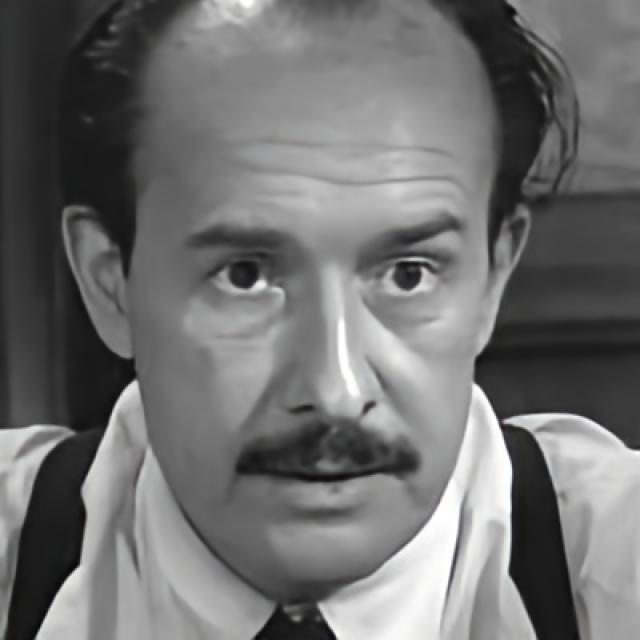surprise: (132, 48, 488, 588)
